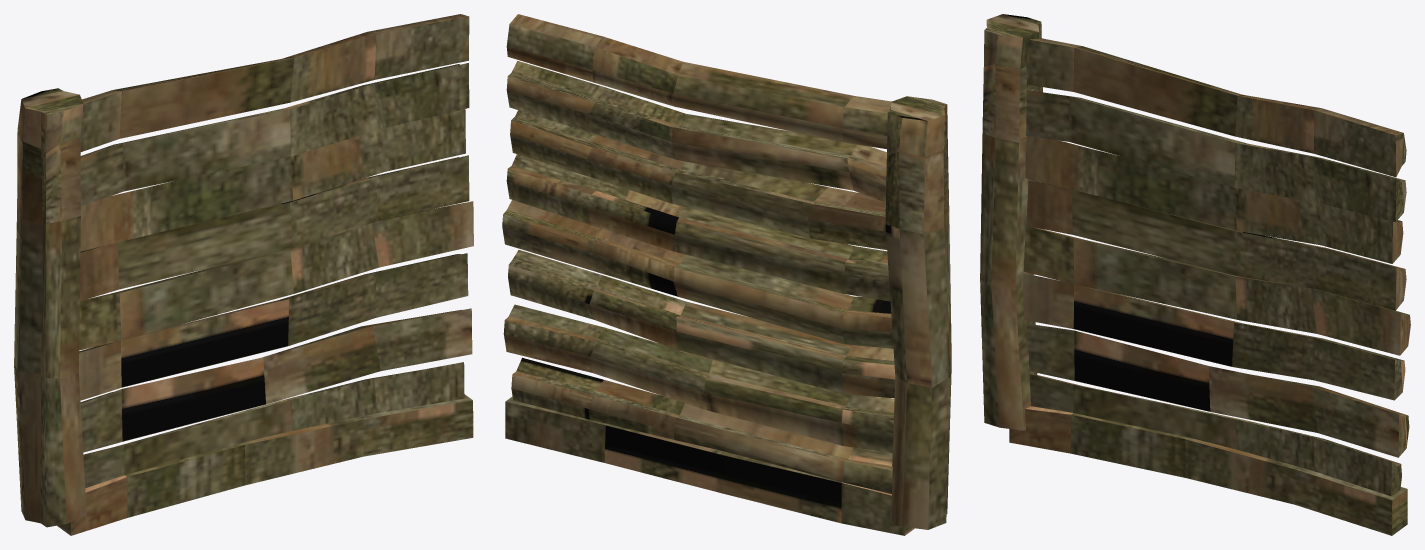
Rendered from House_01_wall.obj.
3 renders of one model, left to right at view 1: azimuth 30°, elevation 25°; view 2: azimuth 150°, elevation 25°; view 3: azimuth 330°, elevation 25°, orthographic. The views are drawn at different scales.
Parts seen in each view (by area): view 1: Wall; view 2: Wall; view 3: Wall.
Boxes of the visible parts, x1,y1,x2,y2 form: Wall: (14,14,473,535); Wall: (502,14,951,535); Wall: (980,14,1410,535).
Bounding box in the file's own units: 2.23 × 2.03 × 0.28.
